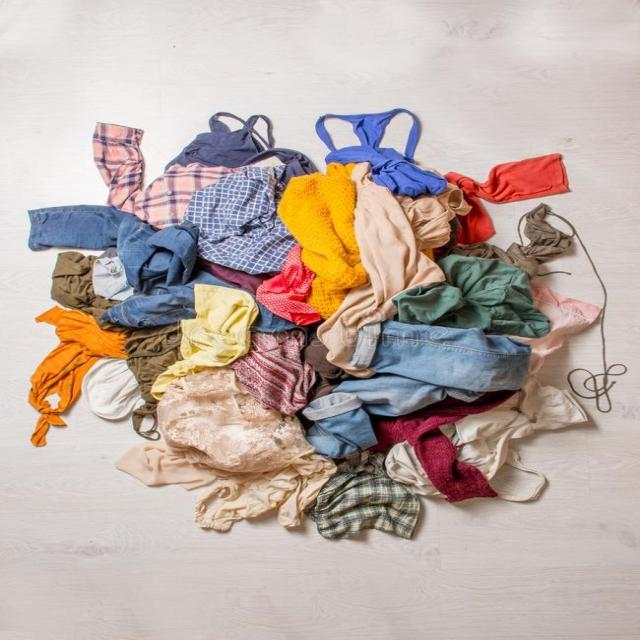clothes: (19, 104, 640, 540)
